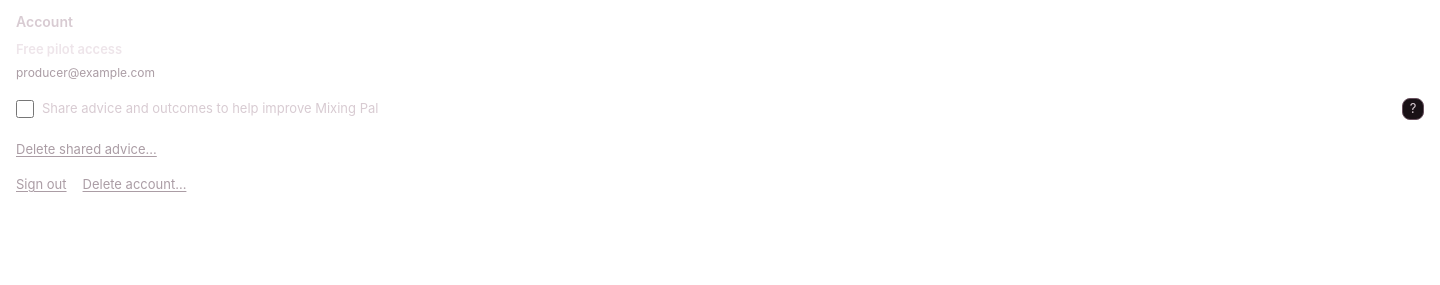
Test: says deleting the account is permanent, marks the button as dangerous, and starts on Cancel
Click the button "Delete account…".
click(134, 185)  # box [82, 175, 186, 194]
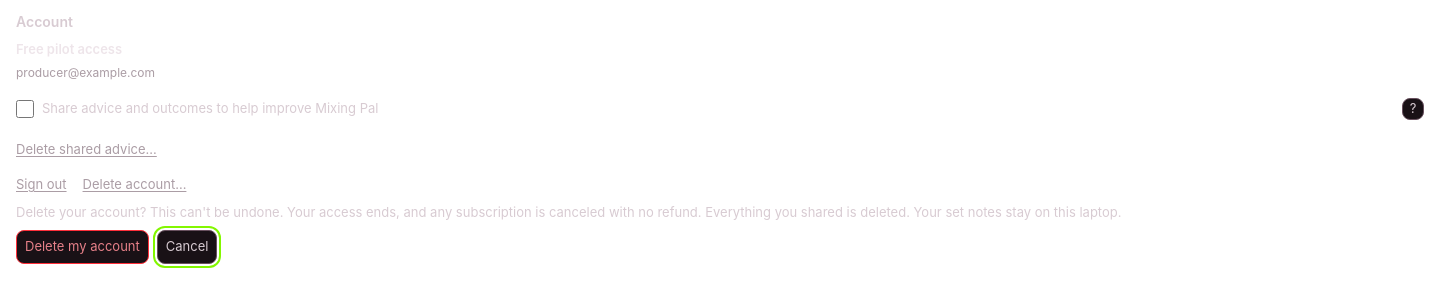
Now the text "any subscription is canceled with no refund" is shown, box [16, 204, 1122, 220]
